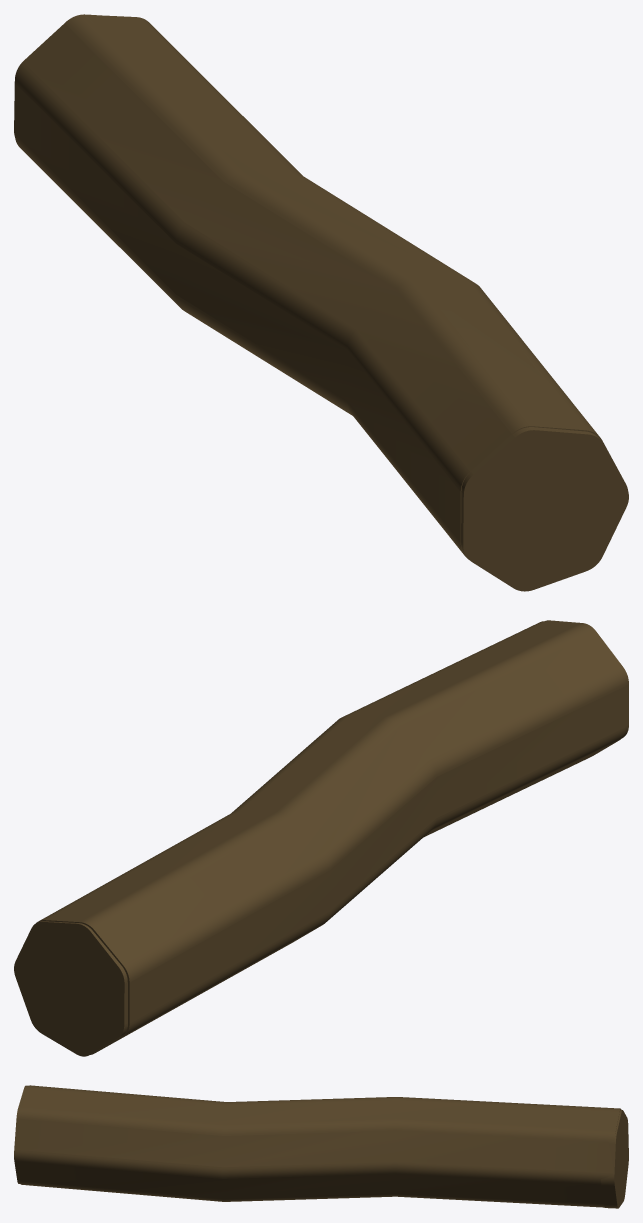
File: ast.fbx
3 renders of one model, top to bottom at view 1: azimuth 30°, elevation 25°; view 2: azimuth 150°, elevation 25°; view 3: azimuth 270°, elevation 25°, orthographic. The views are drawn at different scales.
Parts seen in each view (by area): view 1: Sweep_4; view 2: Sweep_4; view 3: Sweep_4.
Boxes of the visible parts, x1,y1,x2,y2 form: Sweep_4: (14,14,628,591); Sweep_4: (14,620,628,1056); Sweep_4: (14,1085,628,1208).
Bounding box in the file's own units: 59.93 × 39.18 × 241.
